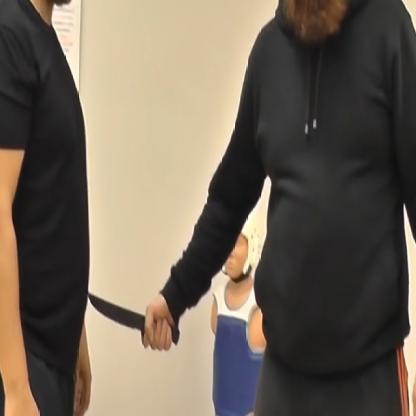knife: (86, 282, 183, 356)
